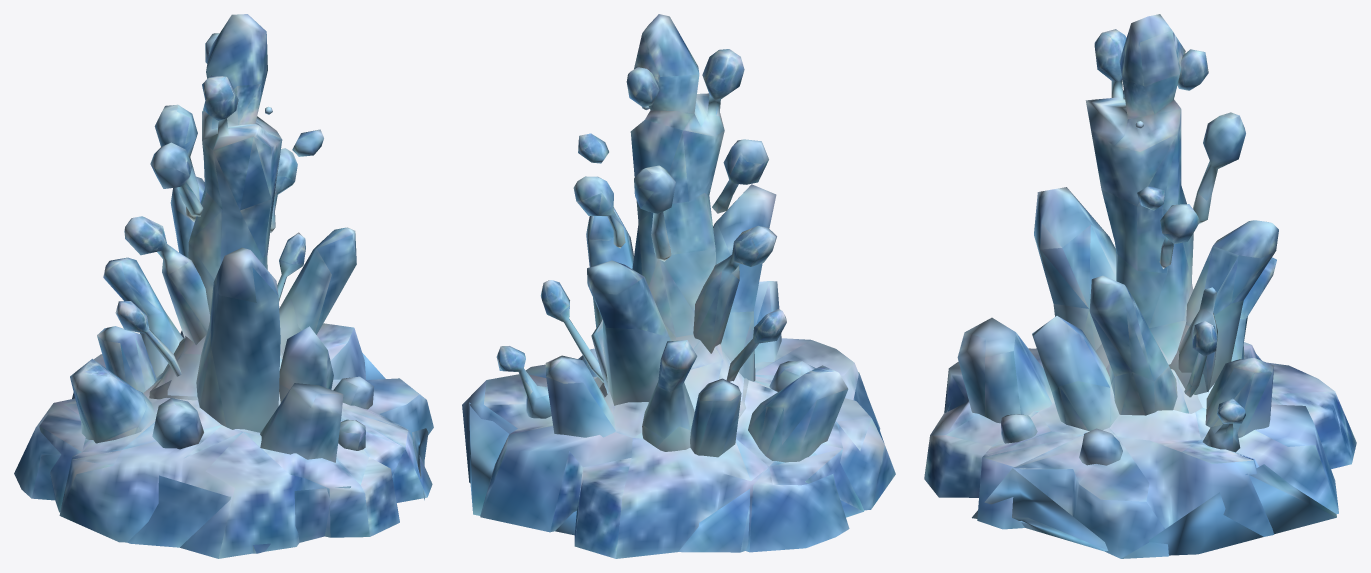
Rendered from ice_pillar_1_low.glb.
The picture shows the model from 3 angles, left to right: view 1: azimuth 30°, elevation 25°; view 2: azimuth 150°, elevation 25°; view 3: azimuth 270°, elevation 25°; orthographic projection. The views are drawn at different scales.
Visible parts, largest first — view 1: Mesh_0.005; view 2: Mesh_0.005; view 3: Mesh_0.005.
Boxes of the visible parts, bbox=[...] form: Mesh_0.005: bbox=[14, 14, 433, 558]; Mesh_0.005: bbox=[462, 14, 895, 558]; Mesh_0.005: bbox=[924, 14, 1356, 558].
Size of the model in its own units: 0.8789 by 1 by 0.8594.
1 material, 1 textured.
